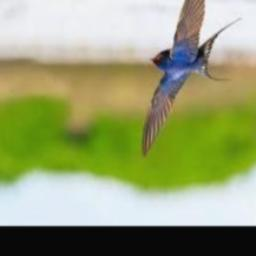Swallow: (143, 0, 242, 160)
